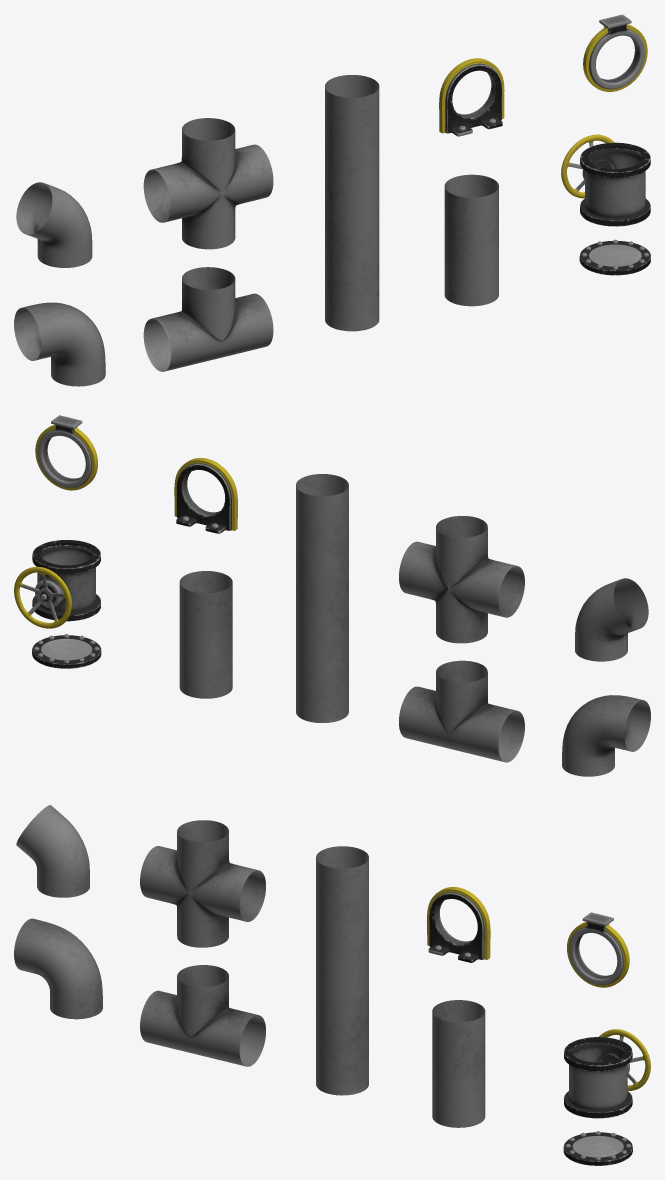
The model's file is factory_pipe_kit.glb.
3 renders of one model, top to bottom at view 1: azimuth 30°, elevation 25°; view 2: azimuth 150°, elevation 25°; view 3: azimuth 330°, elevation 25°, orthographic. The views are drawn at different scales.
Visible parts, largest first — view 1: pipe_long, pipe_x, pipe_t, pipe_short, pipe_90, pipe_valve, pipe_45, pipe_ring_wall, pipe_ring_free, pipe_cap, pipe_handle; view 2: pipe_long, pipe_x, pipe_t, pipe_short, pipe_90, pipe_45, pipe_valve, pipe_ring_wall, pipe_ring_free, pipe_cap, pipe_handle; view 3: pipe_long, pipe_x, pipe_t, pipe_short, pipe_90, pipe_valve, pipe_45, pipe_ring_wall, pipe_ring_free, pipe_cap, pipe_handle.
Part boxes in pixels (box(x1,y1,x2,y2)): pipe_long: box(325, 75, 379, 331); pipe_x: box(143, 118, 273, 249); pipe_t: box(143, 267, 273, 371); pipe_short: box(444, 174, 498, 306); pipe_90: box(14, 302, 105, 386); pipe_valve: box(580, 142, 650, 226); pipe_45: box(16, 182, 92, 267); pipe_ring_wall: box(439, 58, 504, 136); pipe_ring_free: box(583, 14, 647, 91); pipe_cap: box(579, 239, 650, 275); pipe_handle: box(561, 134, 614, 198); pipe_long: box(296, 474, 348, 722); pipe_x: box(399, 516, 524, 643); pipe_t: box(399, 660, 524, 762); pipe_short: box(179, 571, 232, 698); pipe_90: box(562, 695, 650, 776); pipe_45: box(575, 578, 648, 661); pipe_valve: box(32, 540, 100, 621); pipe_ring_wall: box(174, 458, 237, 533); pipe_ring_free: box(35, 415, 97, 490); pipe_cap: box(32, 634, 101, 668); pipe_handle: box(14, 566, 71, 628); pipe_long: box(316, 846, 368, 1095); pipe_x: box(140, 820, 265, 947); pipe_t: box(140, 965, 265, 1066); pipe_short: box(432, 1000, 485, 1127); pipe_90: box(14, 918, 102, 1019); pipe_valve: box(564, 1037, 632, 1118); pipe_45: box(16, 805, 89, 897); pipe_ring_wall: box(427, 887, 490, 962); pipe_ring_free: box(567, 912, 629, 987); pipe_cap: box(563, 1131, 632, 1165); pipe_handle: box(599, 1029, 650, 1090).
Size of the model in its own units: 0.2607 by 0.096 by 0.0314.
Materials: 1 (1 with a texture image).
